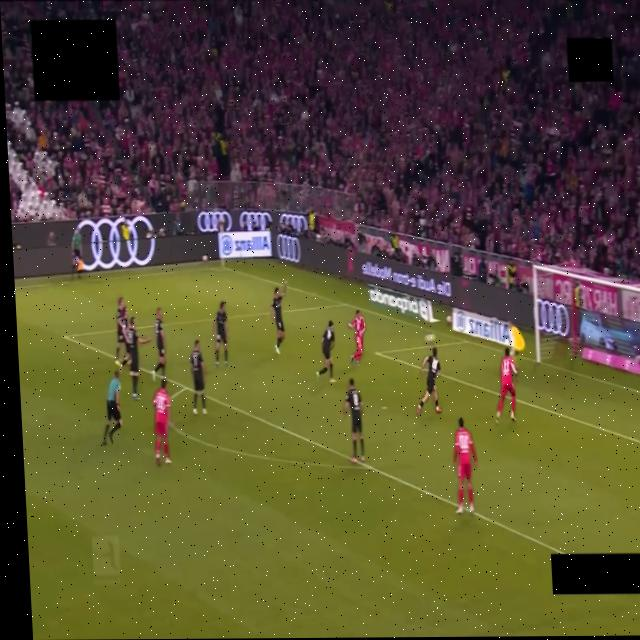ball: (447, 315, 452, 322)
player: (453, 418, 476, 514), (342, 379, 364, 462), (127, 318, 149, 399), (416, 348, 440, 414), (496, 348, 517, 420), (153, 378, 170, 466), (190, 340, 206, 414), (316, 321, 335, 382), (271, 282, 286, 355), (151, 308, 165, 381), (213, 302, 228, 367), (348, 309, 364, 365), (118, 307, 130, 367), (508, 322, 524, 364), (115, 297, 124, 366)
referee: (102, 371, 121, 445)
